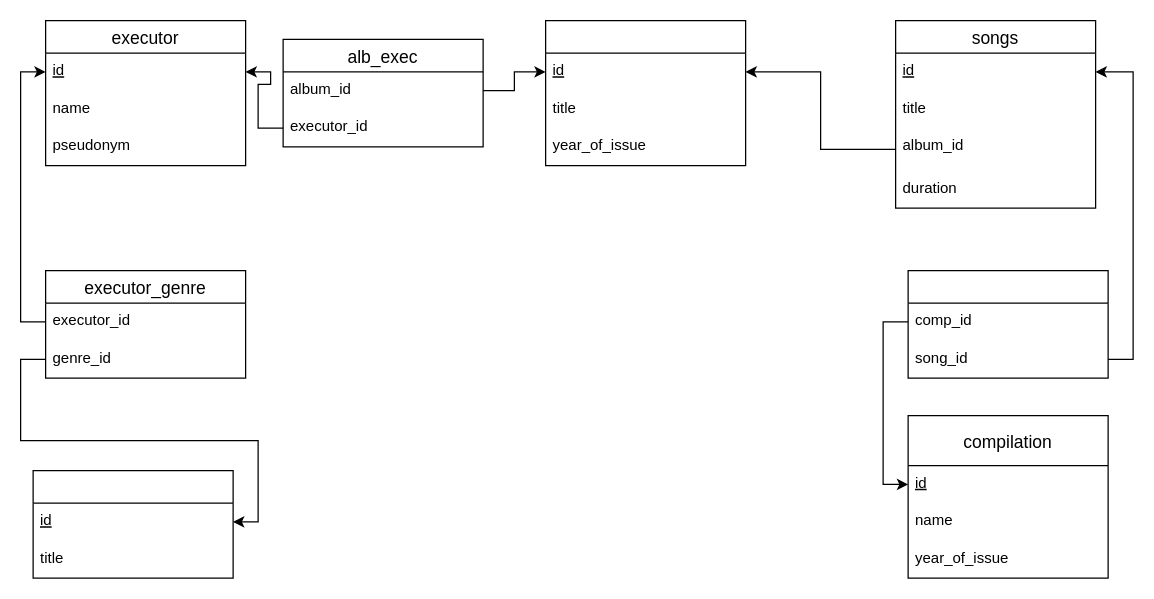
Image size: 1154x599. Some labels were removed from this diagram. Here are the shapes that lost their labels. From the top down, the box of each, then its label:
(544, 19, 746, 166): album
(907, 269, 1108, 378): comp_song
(32, 469, 233, 578): genre_of_music
